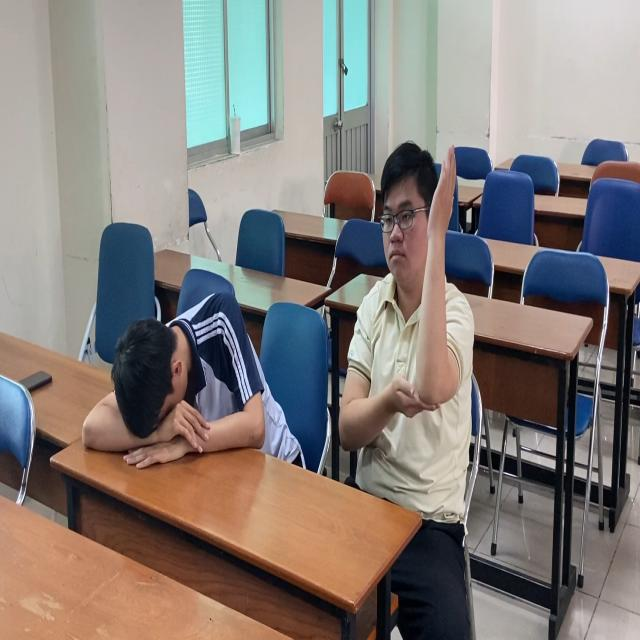raise_hand: (331, 122, 479, 487)
sleep: (80, 281, 287, 489)
